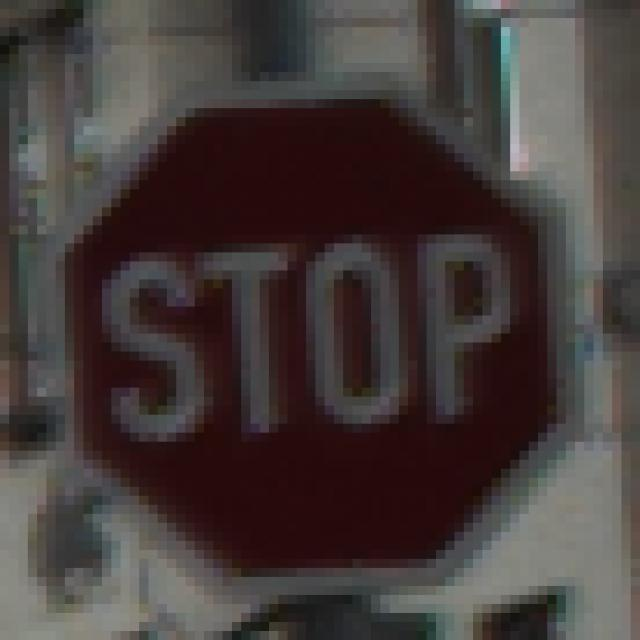STOP: (57, 64, 576, 587)
